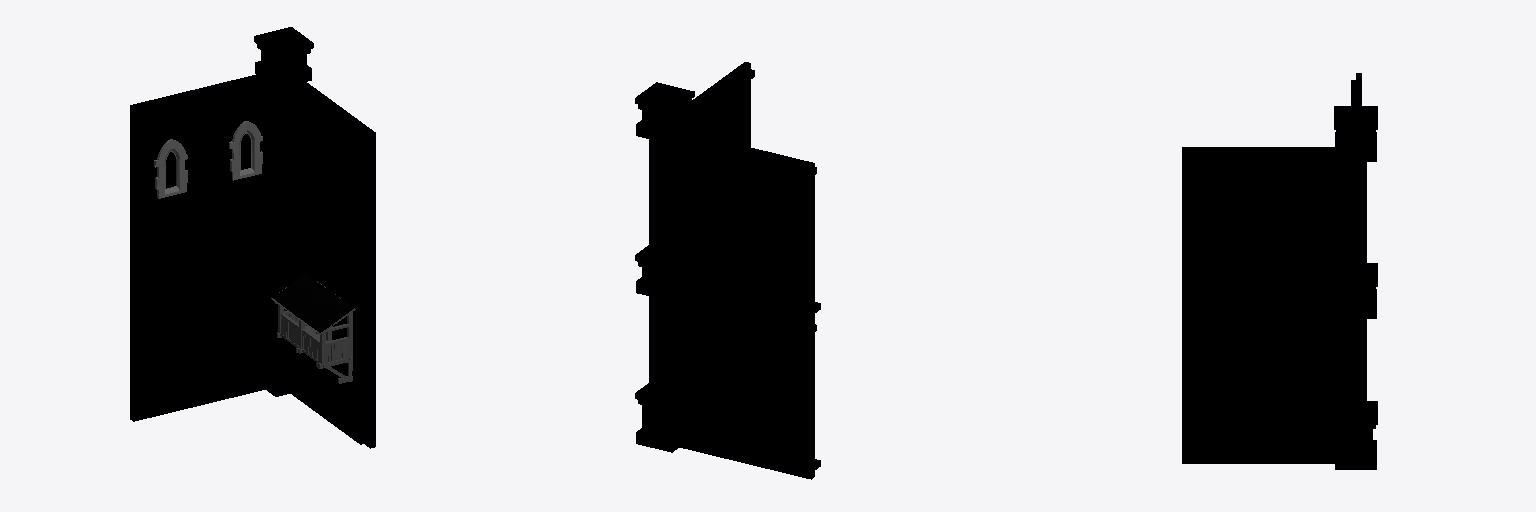
3 renders of one model, left to right at view 1: azimuth 30°, elevation 25°; view 2: azimuth 150°, elevation 25°; view 3: azimuth 270°, elevation 25°, orthographic.
Visible parts, largest first — view 1: object_21, object_17, object_19, object_24, Cube.049_Cube.075, Plane.007, object_12, object_2, object_22, object_1, object_26, object_23 (+8 smaller); view 2: object_17, object_21, object_19, object_12, object_3, object_13, object_5, object_16, object_20, object_15, object_11, object_4; view 3: object_19, object_24, object_12, object_3, object_13, object_5, object_16, object_4, object_11, object_6, object_8.
Part boxes in pixels (bbox=[...]): object_21: bbox=[130, 233, 273, 421]; object_17: bbox=[130, 73, 273, 264]; object_19: bbox=[290, 77, 375, 291]; object_24: bbox=[290, 240, 375, 448]; Cube.049_Cube.075: bbox=[271, 273, 355, 383]; Plane.007: bbox=[154, 121, 262, 198]; object_12: bbox=[274, 87, 289, 202]; object_2: bbox=[134, 219, 274, 262]; object_22: bbox=[134, 377, 270, 419]; object_1: bbox=[282, 222, 369, 287]; object_26: bbox=[284, 380, 369, 444]; object_23: bbox=[130, 239, 273, 278]; object_17: bbox=[671, 131, 814, 321]; object_21: bbox=[671, 291, 814, 479]; object_19: bbox=[688, 62, 750, 146]; object_12: bbox=[649, 139, 670, 258]; object_3: bbox=[649, 296, 670, 395]; object_13: bbox=[635, 82, 694, 112]; object_5: bbox=[642, 405, 675, 438]; object_16: bbox=[636, 117, 692, 144]; object_20: bbox=[688, 69, 754, 121]; object_15: bbox=[642, 106, 687, 130]; object_11: bbox=[636, 277, 679, 301]; object_4: bbox=[636, 428, 679, 452]; object_19: bbox=[1182, 147, 1343, 306]; object_24: bbox=[1182, 307, 1343, 463]; object_12: bbox=[1344, 162, 1366, 276]; object_3: bbox=[1344, 319, 1366, 414]; object_13: bbox=[1334, 106, 1377, 129]; object_5: bbox=[1339, 429, 1372, 455]; object_16: bbox=[1335, 132, 1376, 161]; object_4: bbox=[1335, 440, 1376, 469]; object_11: bbox=[1335, 289, 1376, 318]; object_6: bbox=[1334, 401, 1377, 424]; object_8: bbox=[1334, 263, 1377, 286].
Size of the model in its own units: 11.26 by 22.01 by 11.28.